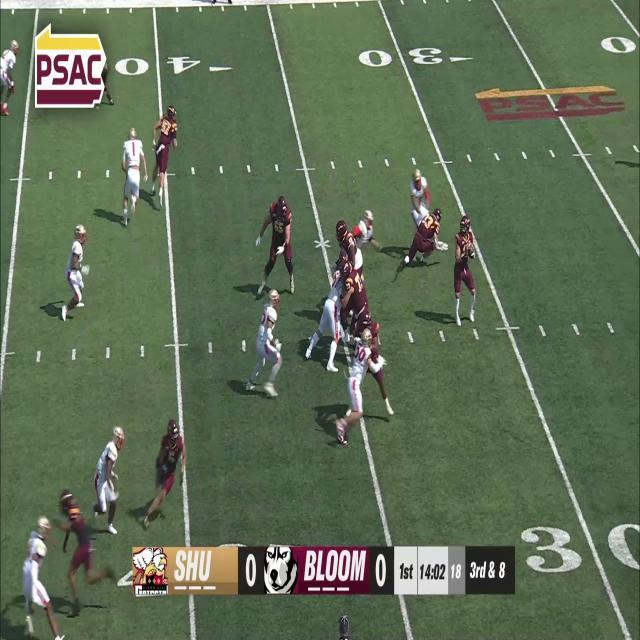football: (466, 240, 476, 260)
